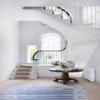stairs: (6, 62, 38, 81)
